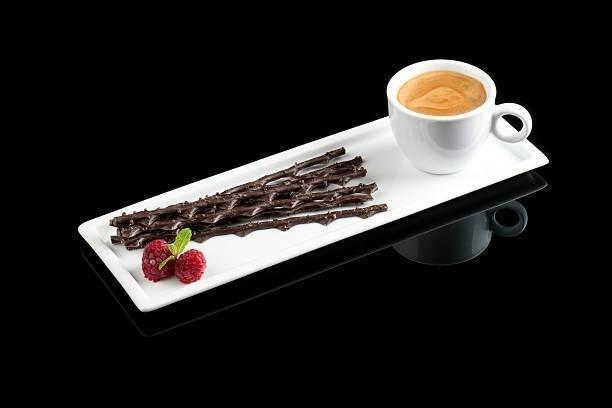cup-handle: (385, 58, 533, 175)
